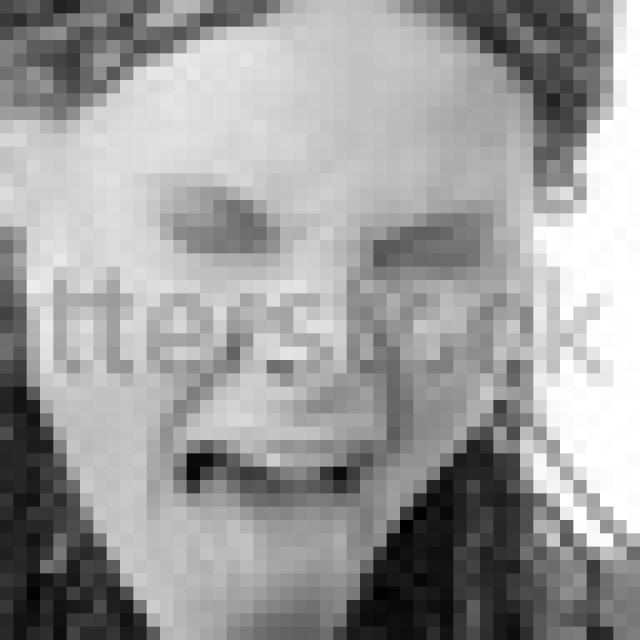disgust: (149, 166, 499, 640)
